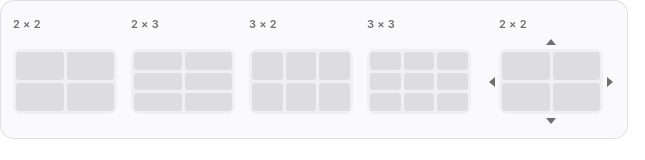
Test: PaletteApp › shows when the custom grid could not be saved
This screenshot has width=645, height=160.
Step 1. Click the button named "열 추가" → (610, 82), box x1=603 y1=68 x2=617 y2=96
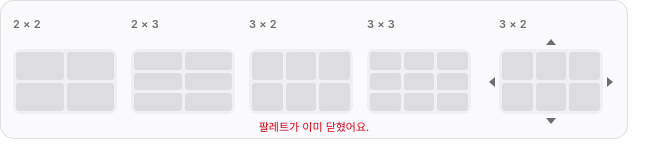
Now the message reads "팔레트가 이미 닫혔어요.", box x1=259 y1=120 x2=369 y2=134
